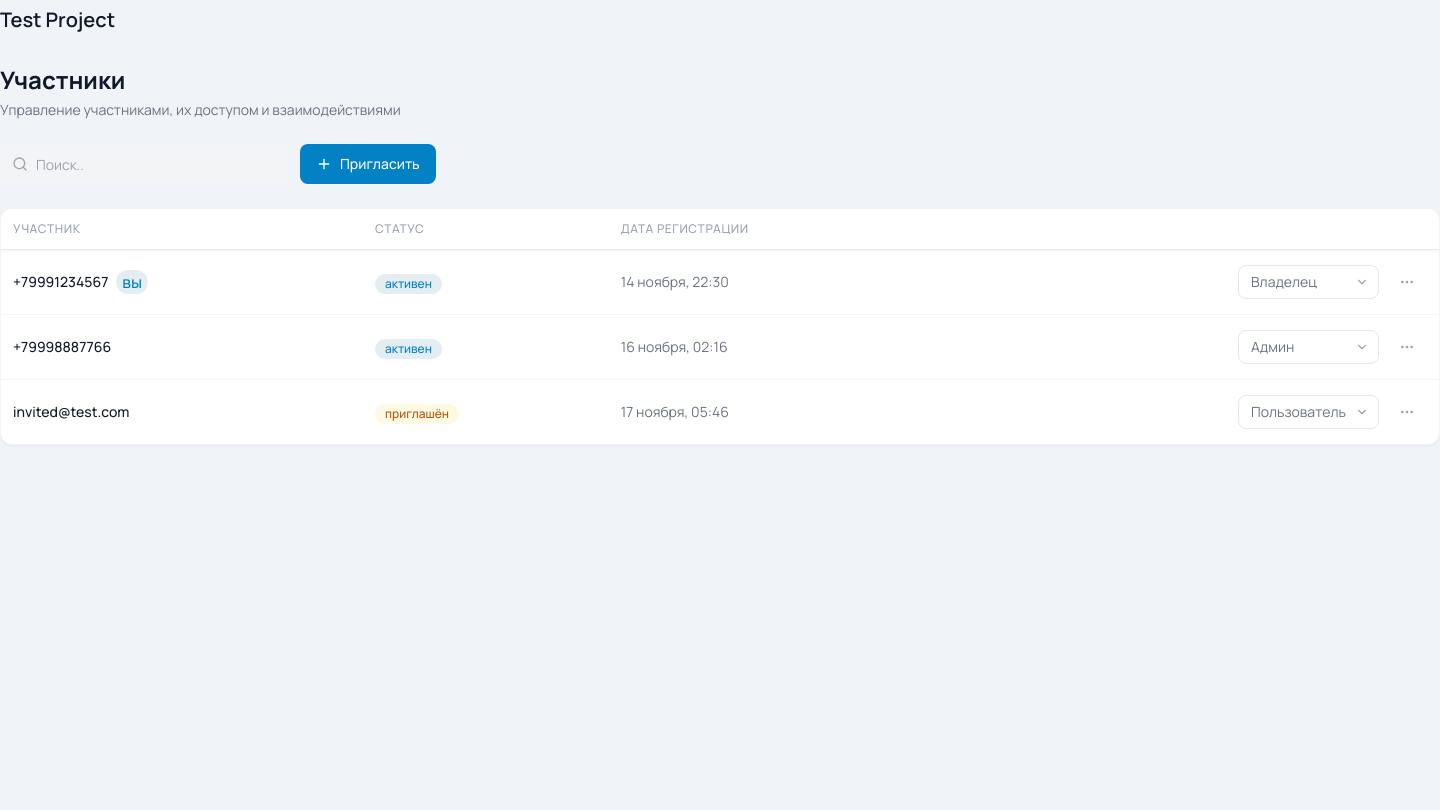
Test: Members › shows invite error on failure
Click the button "Пригласить".
click(368, 164)  # box [300,144,436,184]
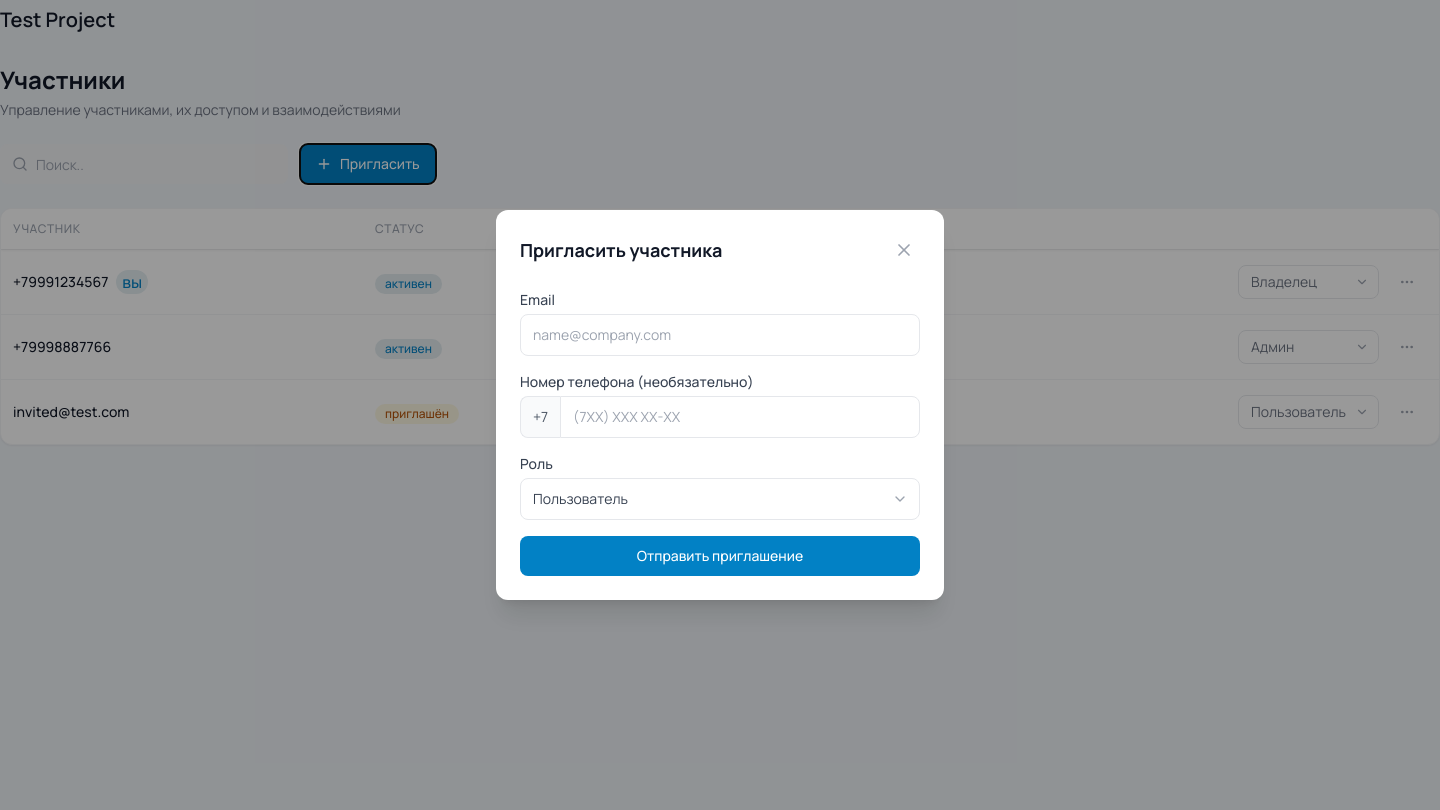
Type "existing@test.com" into the field with placeholder "name@company.com".
click(720, 335); type("existing@test.com")  # box [520,314,920,356]
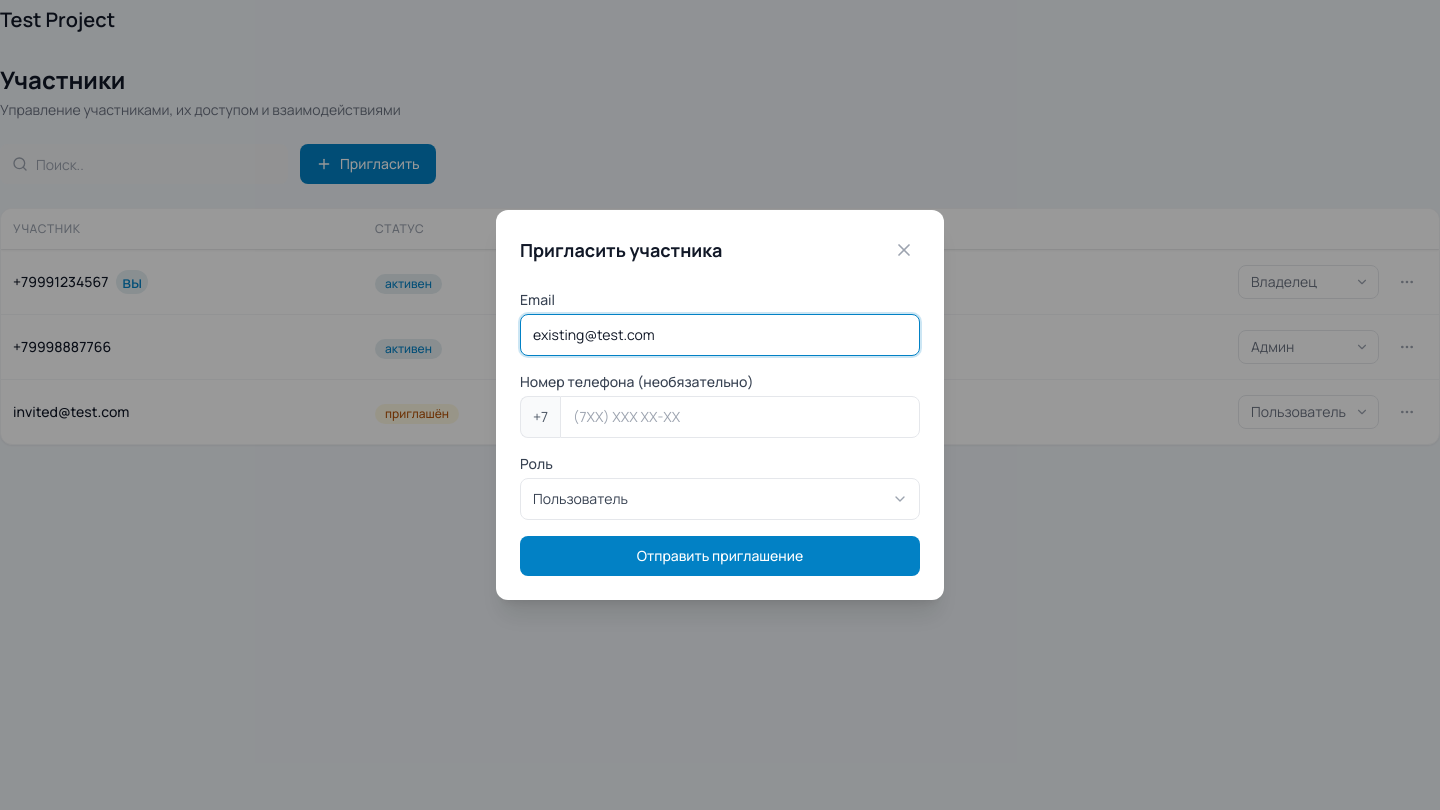
Click the button "Отправить приглашение".
click(720, 556)  # box [520,536,920,576]
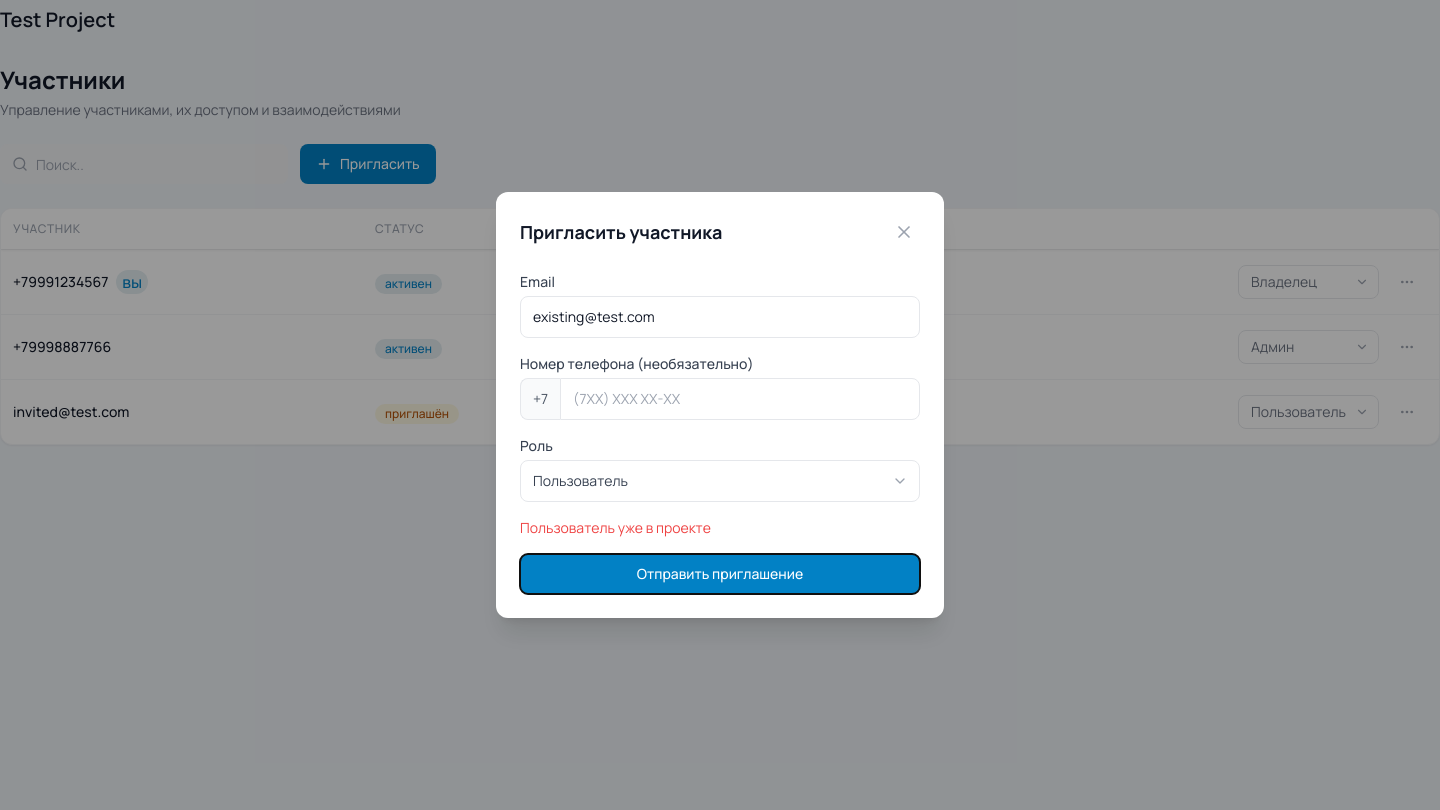
Expected: the text "Пользователь уже в проекте" is shown, [520,518,711,537]
